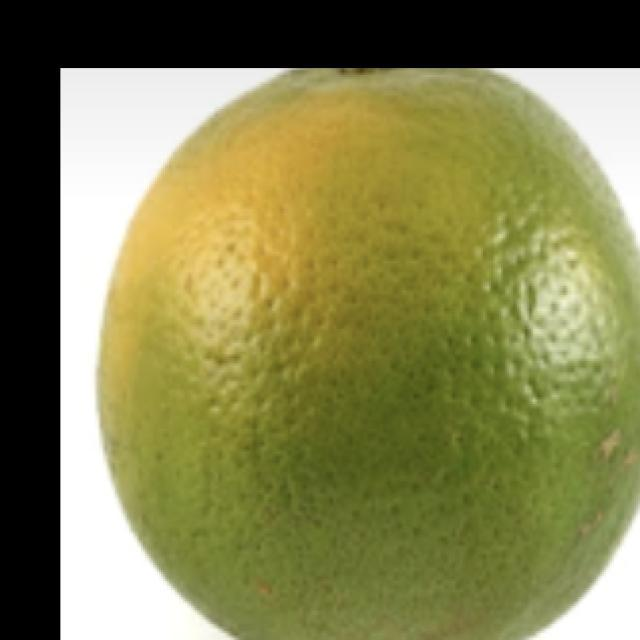Orange: (95, 66, 639, 639)
